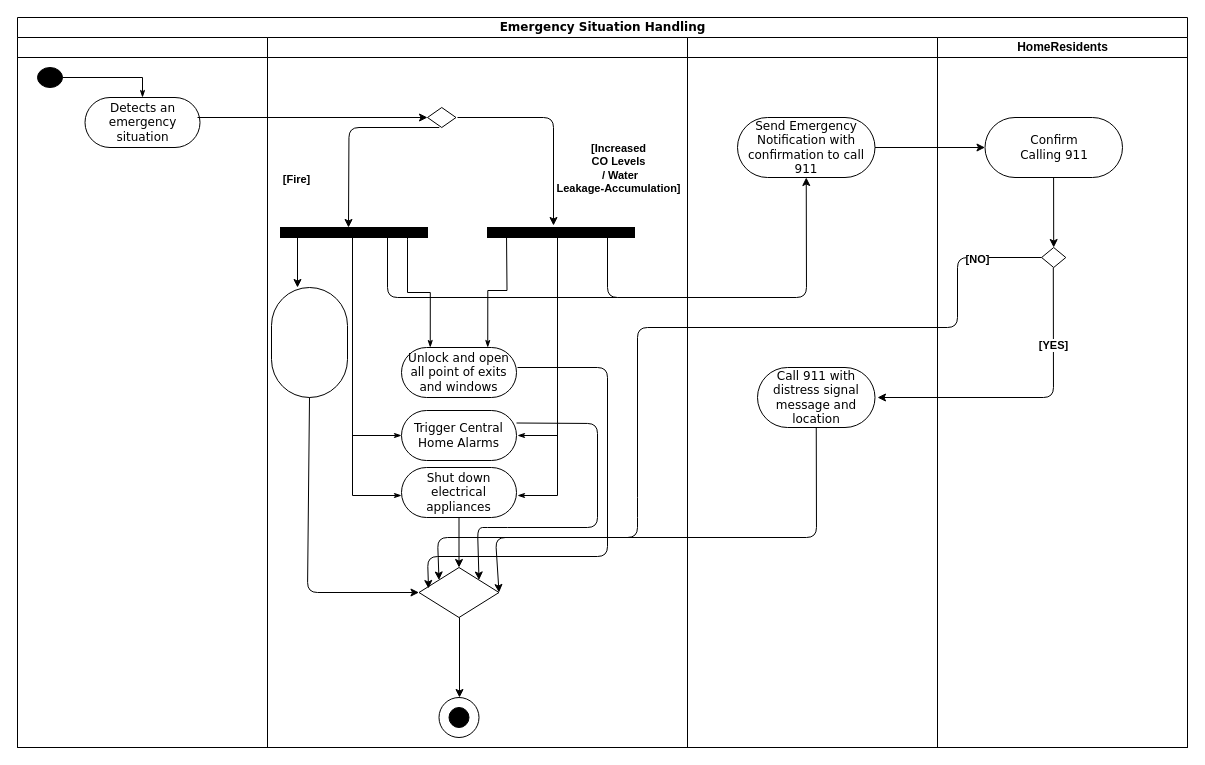
Image size: 1205x765. Some labels were removed from this diagram. Each missing label, with the box of its shape:
Emergency Handler Sub-component: (16, 36, 268, 748)
Notification Manager Sub-component: (686, 36, 938, 748)
Security Manager Sub-component: (266, 36, 688, 748)
Trigger Roof based Water Sprinklers: (270, 286, 348, 398)
